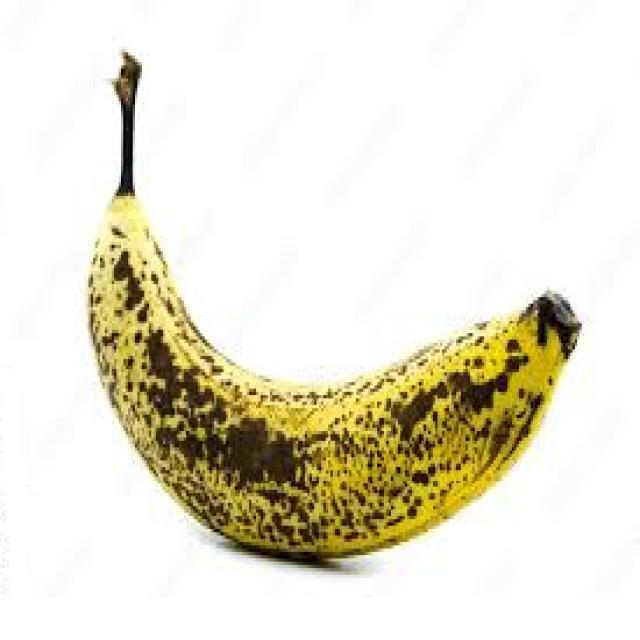Banana: (85, 44, 584, 570)
